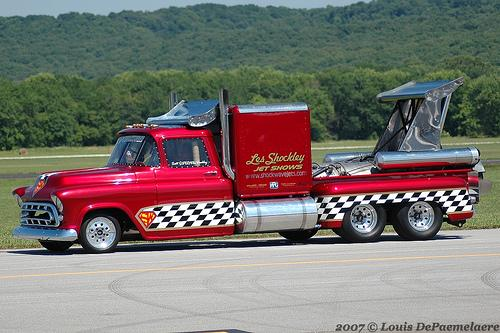truck: (12, 75, 494, 255)
